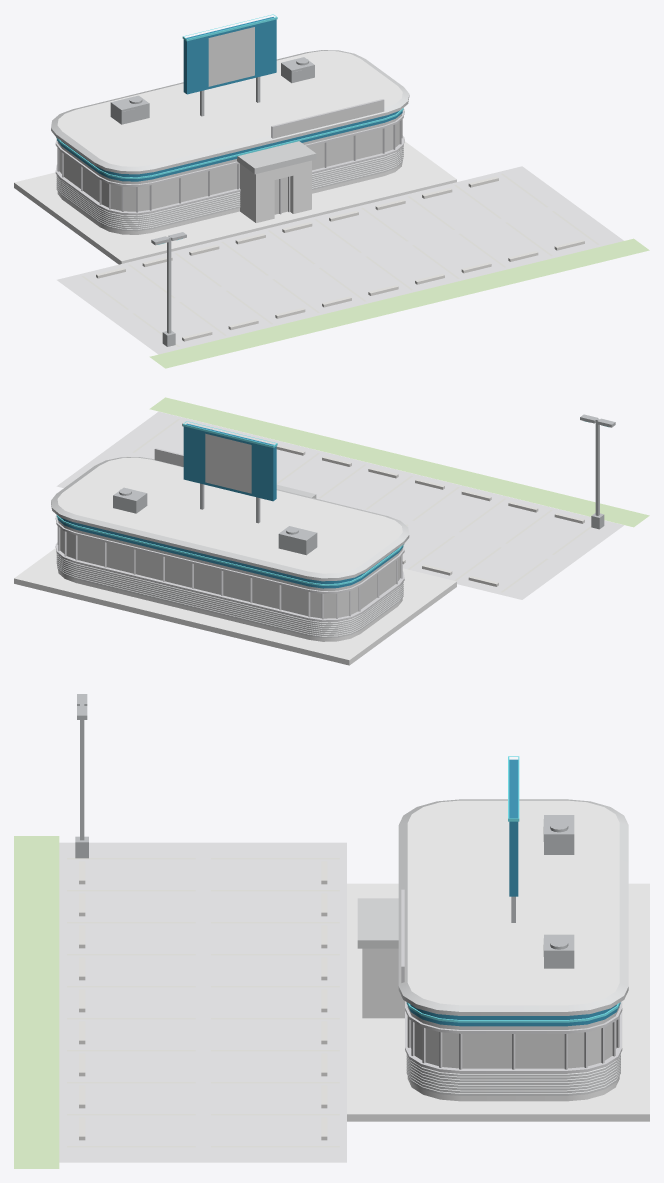
Rendered from retail_diner64.glb.
3 renders of one model, top to bottom at view 1: azimuth 30°, elevation 25°; view 2: azimuth 150°, elevation 25°; view 3: azimuth 270°, elevation 25°, orthographic. The views are drawn at different scales.
Parts seen in each view (by area): view 1: retail_diner64_Asphalt, retail_diner64_Roof, retail_diner64_Walls, retail_diner64_Site, retail_diner64_Lawn, retail_diner64_WindowsLit, retail_diner64_Accent, retail_diner64_Walls2, retail_diner64_Frames, retail_diner64_Trim, retail_diner64_Details, retail_diner64_Brand (+3 smaller); view 2: retail_diner64_Asphalt, retail_diner64_Roof, retail_diner64_Walls, retail_diner64_Site, retail_diner64_WindowsLit, retail_diner64_Lawn, retail_diner64_Accent, retail_diner64_Frames, retail_diner64_Details, retail_diner64_Brand, retail_diner64_Trim, retail_diner64_Walls2 (+2 smaller); view 3: retail_diner64_Asphalt, retail_diner64_Roof, retail_diner64_Site, retail_diner64_Lawn, retail_diner64_Walls, retail_diner64_WindowsLit, retail_diner64_Paint, retail_diner64_Frames, retail_diner64_Walls2, retail_diner64_Details, retail_diner64_Accent, retail_diner64_Trim (+1 smaller).
Boxes of the visible parts, bbox=[...] form: retail_diner64_Asphalt: bbox=[57, 166, 623, 354]; retail_diner64_Roof: bbox=[57, 50, 402, 166]; retail_diner64_Walls: bbox=[51, 50, 409, 231]; retail_diner64_Site: bbox=[14, 141, 456, 264]; retail_diner64_Lawn: bbox=[149, 238, 649, 368]; retail_diner64_WindowsLit: bbox=[59, 122, 399, 214]; retail_diner64_Accent: bbox=[57, 17, 402, 181]; retail_diner64_Walls2: bbox=[57, 160, 402, 234]; retail_diner64_Frames: bbox=[55, 99, 404, 215]; retail_diner64_Trim: bbox=[96, 176, 584, 341]; retail_diner64_Details: bbox=[110, 57, 314, 346]; retail_diner64_Brand: bbox=[208, 27, 254, 86]; retail_diner64_Asphalt: bbox=[56, 411, 623, 599]; retail_diner64_Roof: bbox=[57, 457, 402, 573]; retail_diner64_Walls: bbox=[51, 457, 409, 637]; retail_diner64_Site: bbox=[14, 548, 456, 665]; retail_diner64_WindowsLit: bbox=[60, 528, 400, 618]; retail_diner64_Lawn: bbox=[149, 397, 649, 527]; retail_diner64_Accent: bbox=[57, 423, 403, 588]; retail_diner64_Frames: bbox=[55, 448, 404, 622]; retail_diner64_Details: bbox=[113, 414, 615, 555]; retail_diner64_Brand: bbox=[205, 433, 251, 493]; retail_diner64_Trim: bbox=[182, 422, 584, 586]; retail_diner64_Walls2: bbox=[58, 570, 402, 641]; retail_diner64_Asphalt: bbox=[59, 842, 346, 1162]; retail_diner64_Roof: bbox=[407, 800, 619, 1005]; retail_diner64_Site: bbox=[347, 883, 649, 1121]; retail_diner64_Lawn: bbox=[14, 836, 59, 1168]; retail_diner64_Walls: bbox=[357, 799, 628, 1095]; retail_diner64_WindowsLit: bbox=[410, 1020, 616, 1068]; retail_diner64_Paint: bbox=[67, 858, 339, 1147]; retail_diner64_Frames: bbox=[401, 889, 622, 1073]; retail_diner64_Walls2: bbox=[362, 948, 619, 1101]; retail_diner64_Details: bbox=[75, 694, 574, 968]; retail_diner64_Accent: bbox=[406, 759, 620, 1026]; retail_diner64_Trim: bbox=[79, 861, 327, 1140].
Bounding box in the file's own units: 104 × 31.9 × 84.
